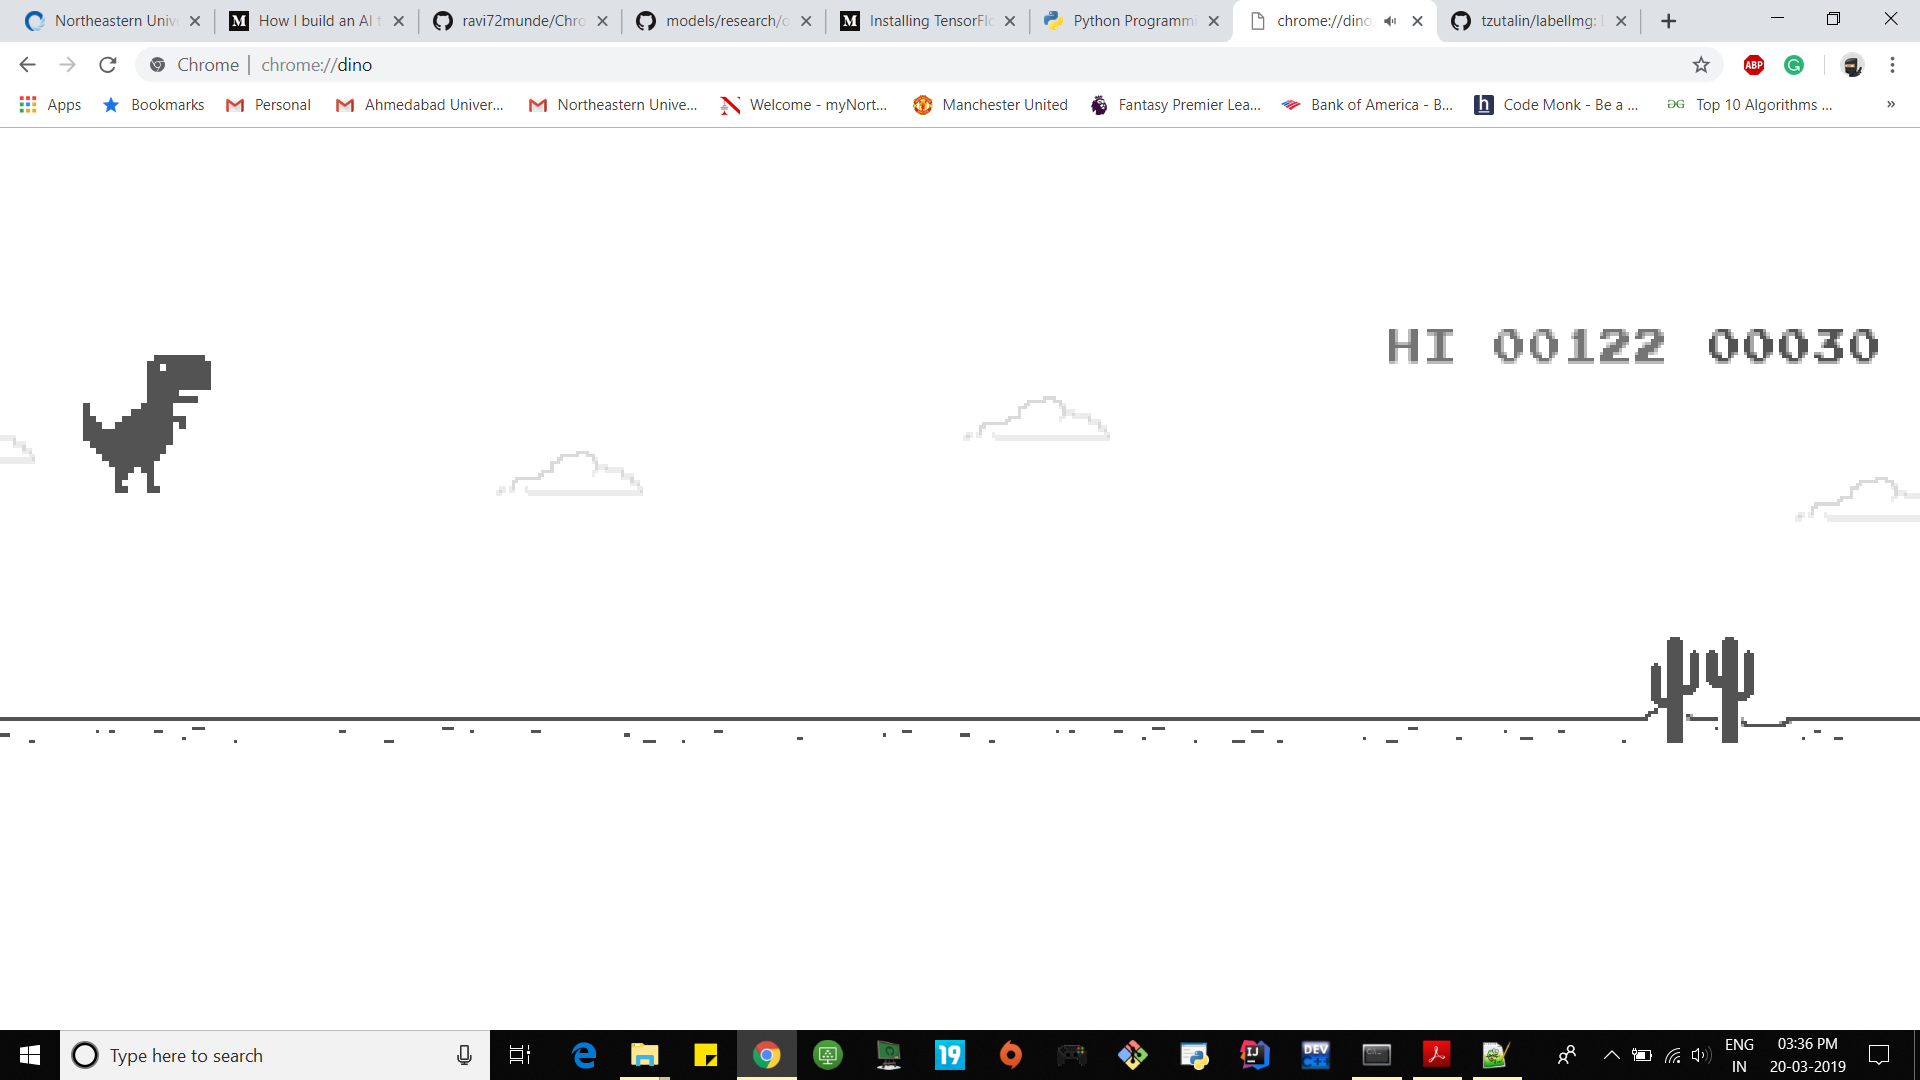cactus-2: (1648, 636, 1755, 744)
dino: (83, 353, 215, 495)
